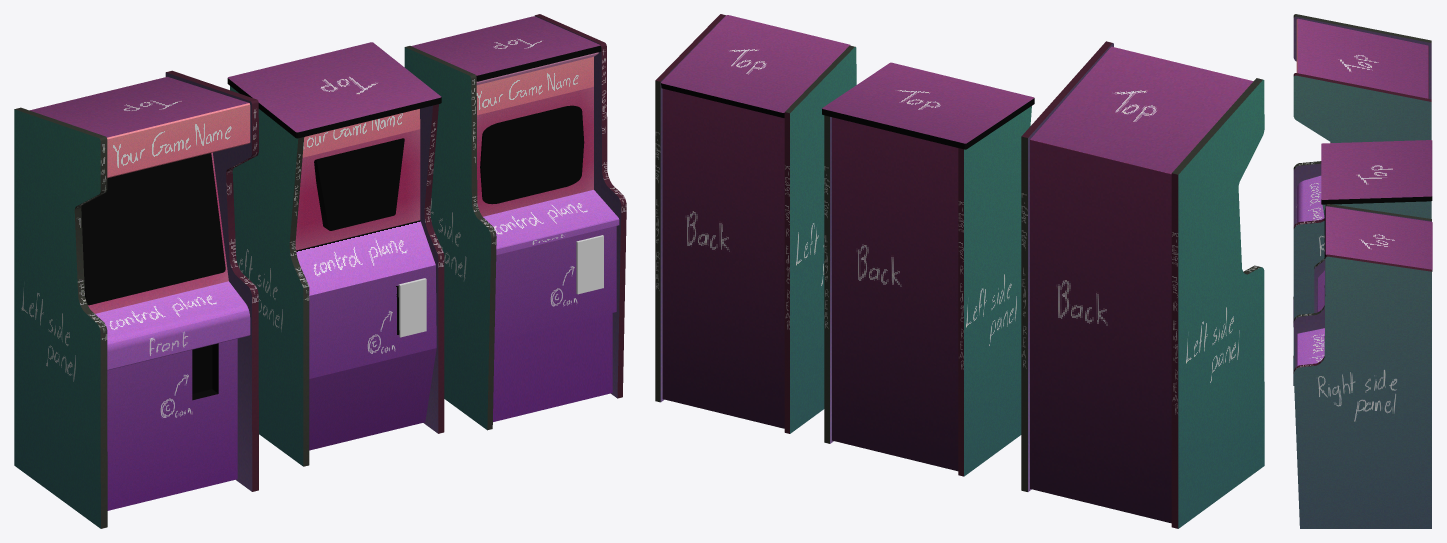
File: cabinet-Assets.glb
3 views of the same model, side by side, from view 1: azimuth 30°, elevation 25°; view 2: azimuth 150°, elevation 25°; view 3: azimuth 270°, elevation 25° (orthographic). The views are drawn at different scales.
Visible parts, largest first — view 1: Rushn Attack, sides.001, Pong, Space Invaders, sides.003, sides.002, screen cutout-noimp.001, top, screen cutout-noimp.003, top.001, screen cutout-noimp.002, coin box-noimp.002 (+1 smaller); view 2: Rushn Attack, Pong, Space Invaders, sides.001, sides.002, sides.003, top.001, top; view 3: sides.003, sides.001, Rushn Attack, top, top.001, sides.002, Space Invaders, Pong.
Boxes of the visible parts, x1=… form: Rushn Attack: x1=29, y1=76, x2=250, y2=510; sides.001: x1=14, y1=70, x2=258, y2=528; Pong: x1=295, y1=109, x2=436, y2=450; Space Invaders: x1=476, y1=52, x2=619, y2=421; sides.003: x1=404, y1=14, x2=626, y2=430; sides.002: x1=230, y1=86, x2=444, y2=466; screen cutout-noimp.001: x1=81, y1=153, x2=225, y2=305; top: x1=227, y1=42, x2=441, y2=138; screen cutout-noimp.003: x1=480, y1=105, x2=584, y2=204; top.001: x1=411, y1=16, x2=601, y2=81; screen cutout-noimp.002: x1=314, y1=138, x2=404, y2=230; coin box-noimp.002: x1=398, y1=278, x2=426, y2=337; Rushn Attack: x1=1030, y1=46, x2=1253, y2=523; Pong: x1=832, y1=117, x2=958, y2=471; Space Invaders: x1=662, y1=88, x2=784, y2=428; sides.001: x1=1021, y1=41, x2=1264, y2=528; sides.002: x1=824, y1=106, x2=1031, y2=476; sides.003: x1=655, y1=14, x2=856, y2=433; top.001: x1=661, y1=15, x2=850, y2=117; top: x1=822, y1=62, x2=1034, y2=149; sides.003: x1=1293, y1=204, x2=1431, y2=528; sides.001: x1=1293, y1=14, x2=1431, y2=385; Rushn Attack: x1=1296, y1=18, x2=1428, y2=222; top: x1=1321, y1=140, x2=1432, y2=204; top.001: x1=1324, y1=206, x2=1432, y2=271; sides.002: x1=1314, y1=201, x2=1431, y2=312; Space Invaders: x1=1297, y1=328, x2=1324, y2=366; Pong: x1=1317, y1=270, x2=1324, y2=312.
Size of the model in its own units: 2.35 by 1.67 by 0.6765.
Materials: 1 (1 with a texture image).
